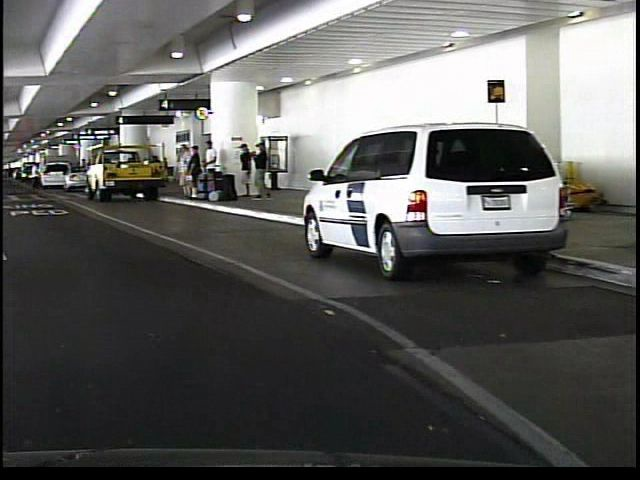person: (250, 142, 267, 203), (170, 141, 187, 201), (27, 161, 39, 192)
